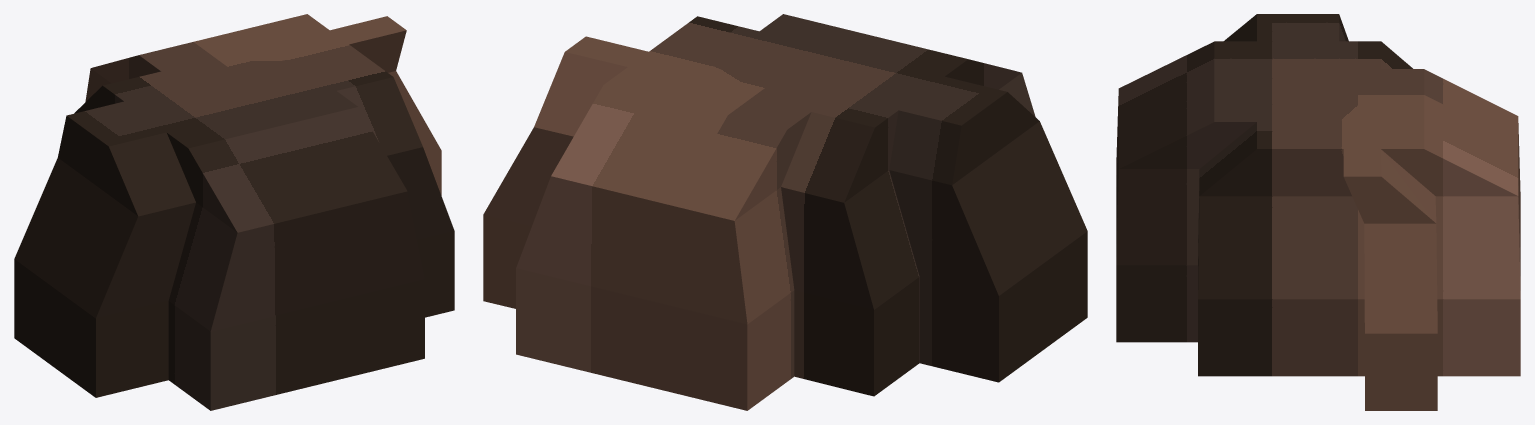
Rendered from small_rock_203x02.gltf.
3 renders of one model, left to right at view 1: azimuth 30°, elevation 25°; view 2: azimuth 150°, elevation 25°; view 3: azimuth 270°, elevation 25°, orthographic. The views are drawn at different scales.
Parts seen in each view (by area): view 1: small_rock_203x02; view 2: small_rock_203x02; view 3: small_rock_203x02.
Part boxes in pixels (<box>): small_rock_203x02: <box>14,14,454,410</box>; small_rock_203x02: <box>483,14,1087,410</box>; small_rock_203x02: <box>1116,14,1520,410</box>.
Size of the model in its own units: 0.6509 by 0.3153 by 0.5432.
1 material, 1 textured.
